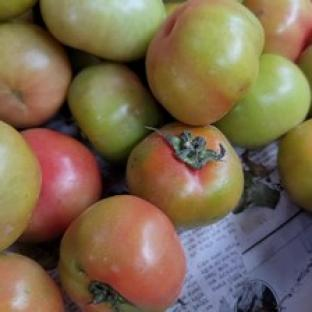Tomato: (59, 195, 186, 311), (126, 122, 243, 228), (67, 62, 161, 162), (20, 129, 103, 242), (215, 53, 310, 149), (0, 23, 72, 128), (0, 120, 41, 250), (0, 253, 65, 311), (278, 119, 311, 211)
